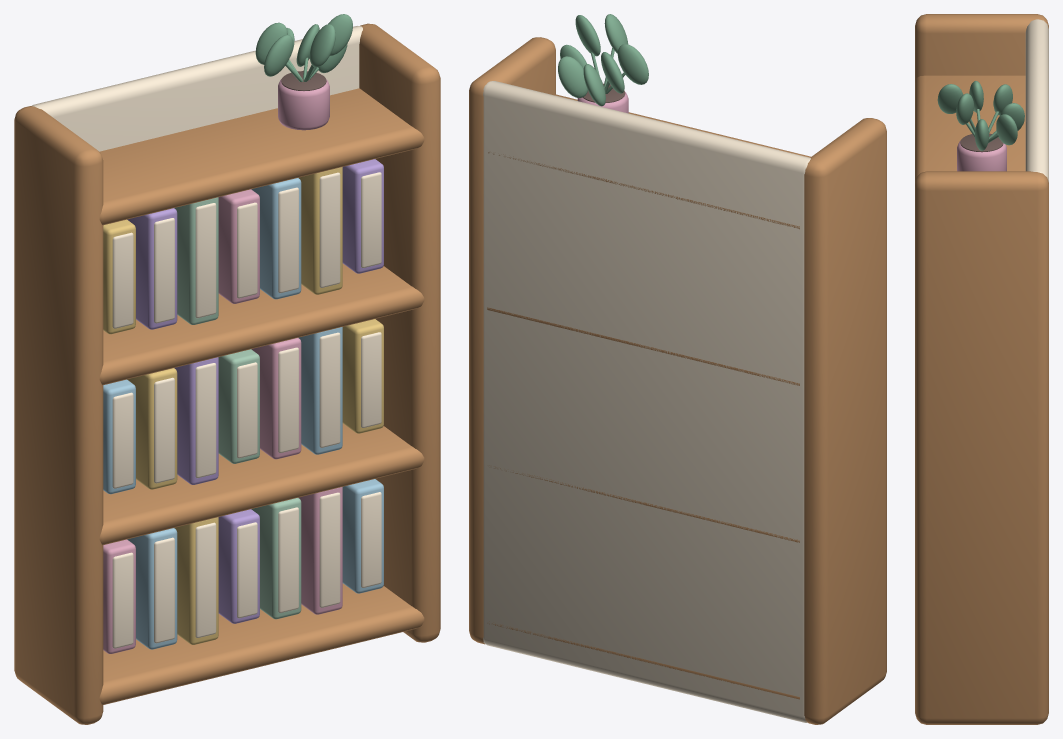
Rendered from bookshelf.glb.
3 views of the same model, side by side, from view 1: azimuth 30°, elevation 25°; view 2: azimuth 150°, elevation 25°; view 3: azimuth 270°, elevation 25° (orthographic). The views are drawn at different scales.
Parts seen in each view (by area): view 1: AssetSurface; view 2: AssetSurface; view 3: AssetSurface.
Part boxes in pixels (x1,y1,x2,y2): AssetSurface: (14, 14, 440, 724); AssetSurface: (469, 14, 886, 724); AssetSurface: (915, 14, 1048, 724).
Size of the model in its own units: 1.39 by 2.27 by 0.46.
